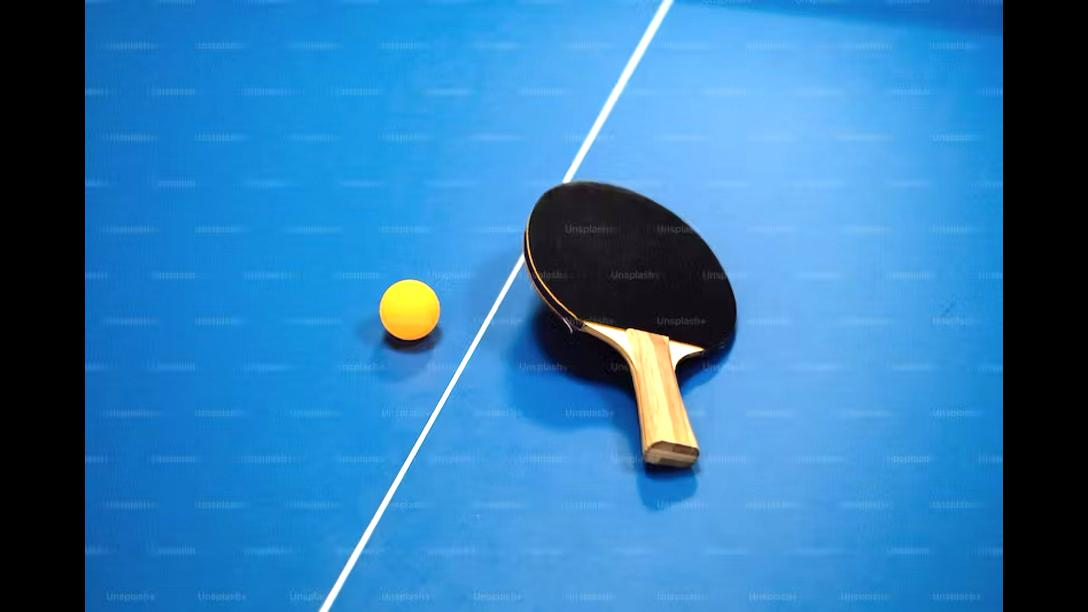Table-Tennis-Ball: (380, 279, 440, 339)
